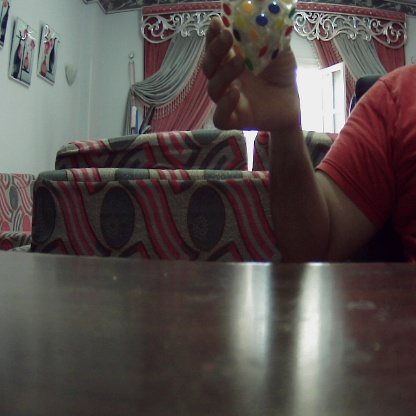Rubix Cube: (218, 2, 296, 67)
